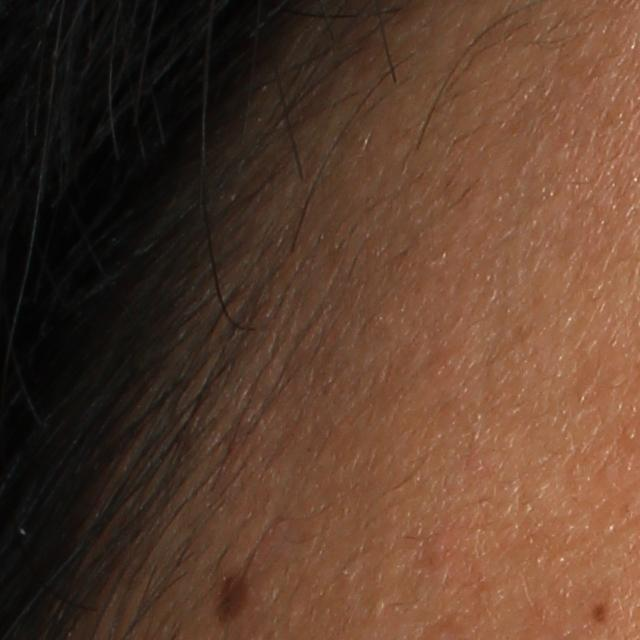nevus: (213, 557, 255, 629)
